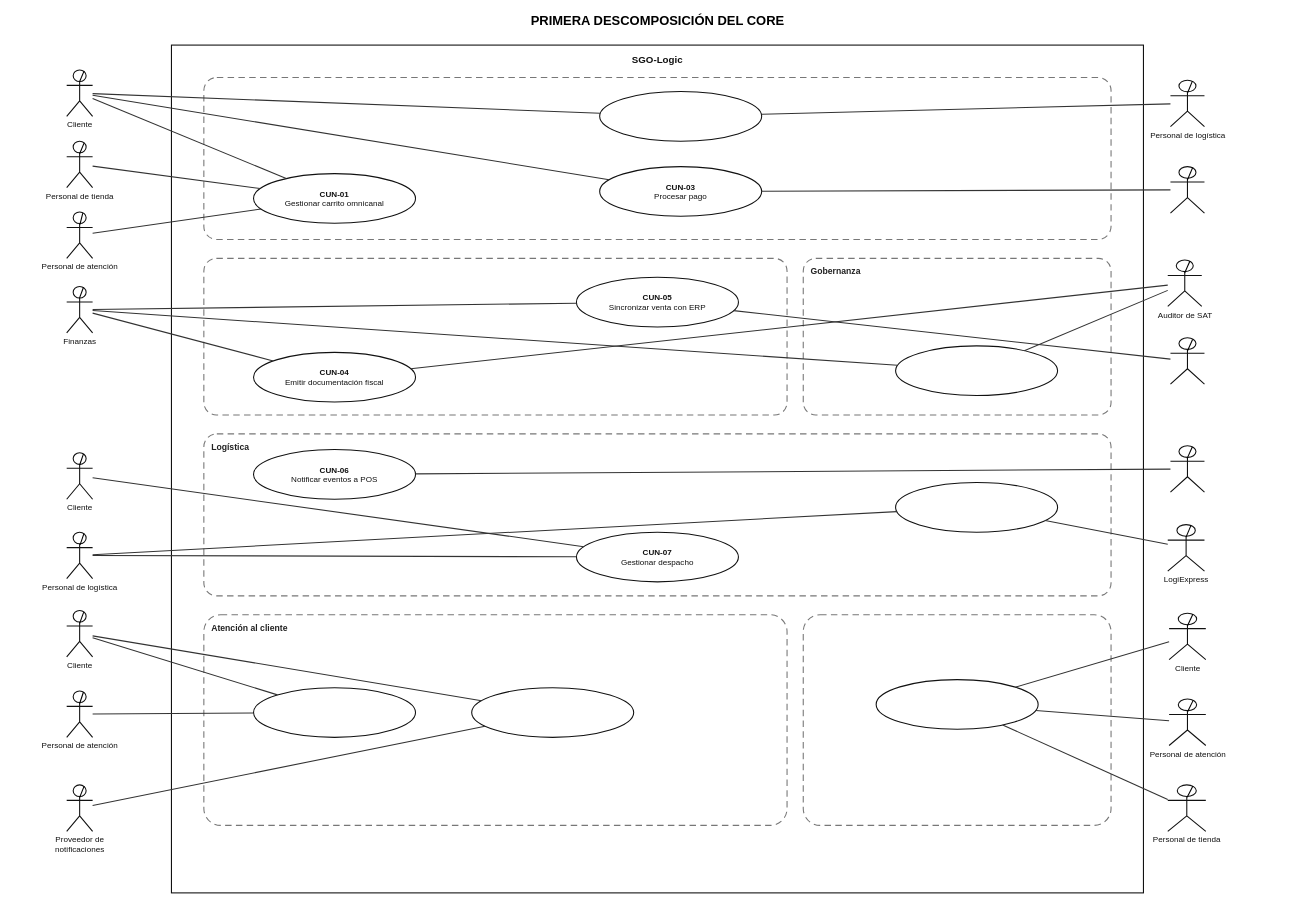
This 1314x902 diagram has some shape labels left out. The box of each missing label's shape, as (x1, y1, x2, y2) in pixels:
Cumplimiento fiscal: (203, 258, 787, 415)
CUN-02 Verificar y reservar inventario: (599, 91, 762, 141)
CUN-08 Integrar con LogiExpress: (895, 482, 1058, 532)
CUN-09 Consultar estado de orden: (253, 687, 416, 738)
CUN-10 Gestionar devoluciones y reembolsos: (875, 679, 1038, 730)
CUN-11 Notificar al cliente: (471, 687, 634, 738)
CUN-12 Auditar operaciones: (895, 345, 1058, 396)
ERP-Core: (1170, 337, 1205, 384)
PayKlik: (1170, 166, 1205, 213)
POS de tiendas: (1170, 445, 1205, 492)
Postventa: (802, 614, 1111, 826)
Venta omnicanal: (203, 77, 1111, 240)
